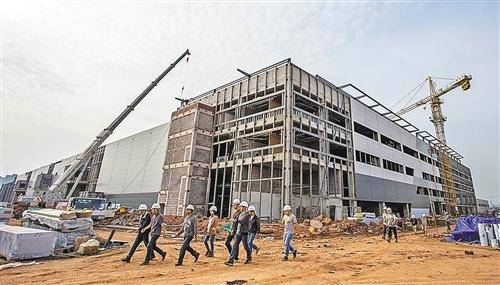helmet: (282, 203, 293, 213), (150, 202, 162, 210), (240, 201, 249, 209), (138, 204, 148, 211), (185, 204, 196, 210), (208, 206, 219, 212), (232, 198, 240, 206), (248, 205, 256, 212)
no_wear: (281, 215, 295, 233)
